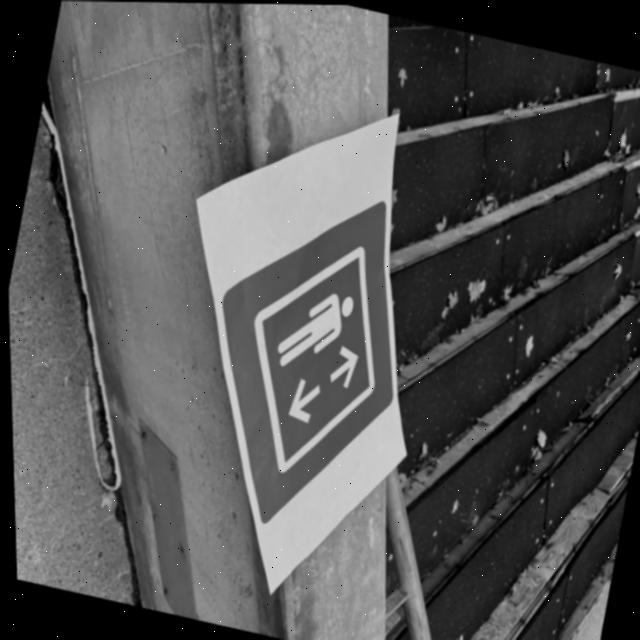elevator: (226, 202, 392, 530)
